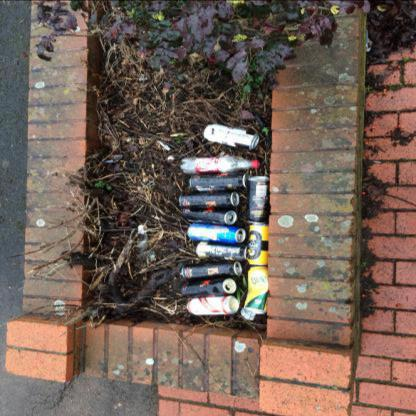Bottle: (254, 159, 260, 168)
Bottle cap: (180, 156, 261, 174)
Can: (204, 123, 260, 149), (246, 176, 272, 223), (182, 260, 242, 280), (244, 266, 269, 314), (188, 223, 246, 243), (189, 172, 250, 191), (180, 277, 237, 297), (179, 190, 240, 208), (196, 241, 248, 261), (182, 207, 237, 225), (187, 296, 239, 315), (247, 223, 270, 265)
Pop tab: (227, 282, 235, 288), (237, 267, 241, 272), (239, 234, 243, 239), (228, 215, 233, 219), (234, 197, 237, 201)
Unlabeled litter: (241, 309, 256, 320), (139, 250, 155, 260), (155, 140, 170, 150), (137, 236, 146, 252), (137, 225, 144, 235), (372, 160, 382, 163)
